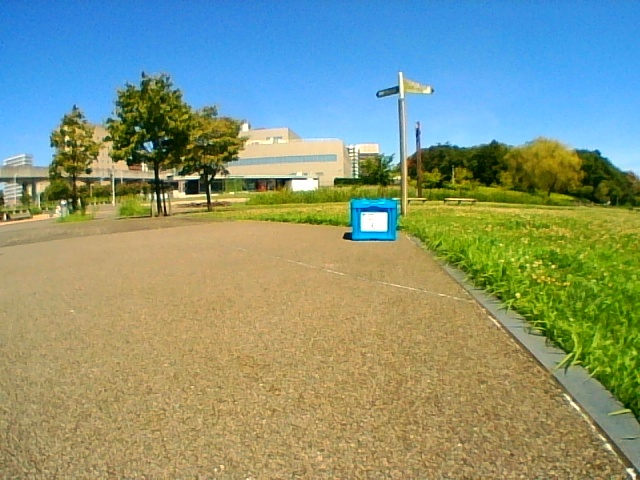blue_box: (352, 198, 394, 240)
tag: (361, 212, 386, 231)
